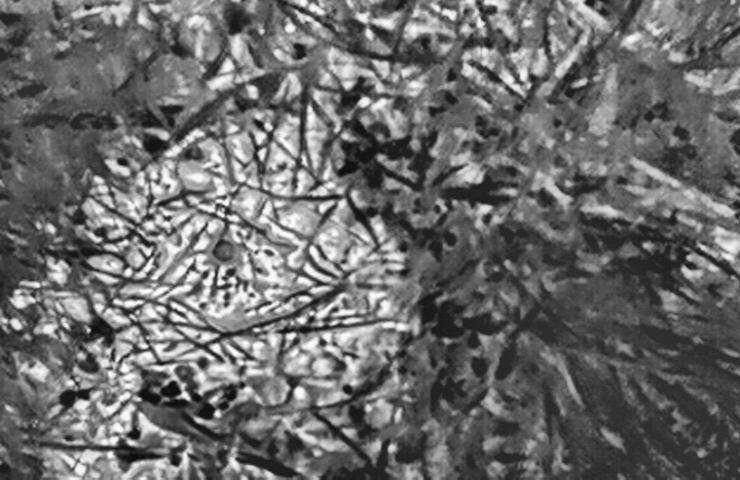landmines: (56, 105, 427, 422)
